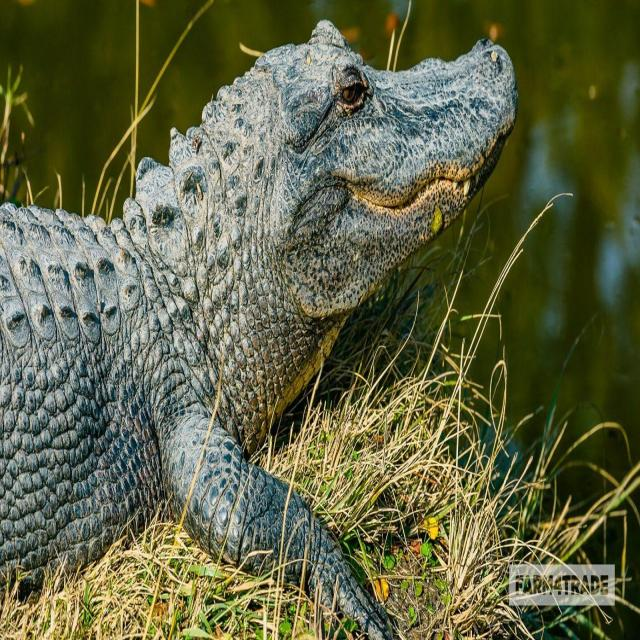crocodile: (0, 0, 532, 639)
